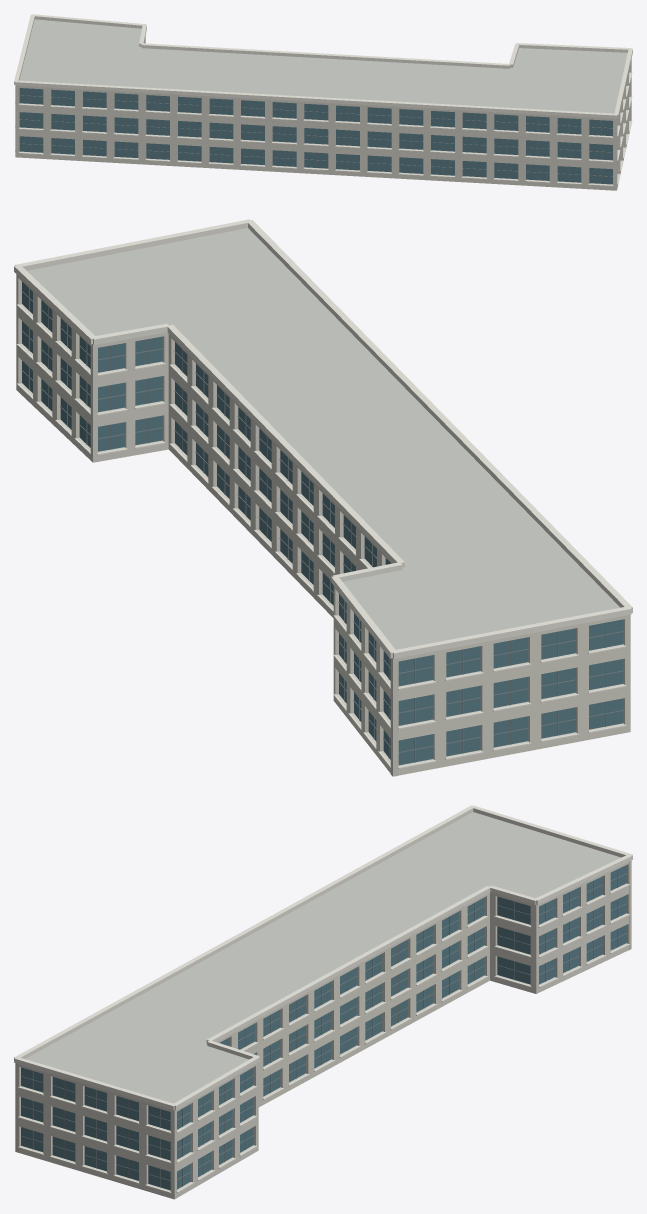
3 views of the same model, one above another, from view 1: azimuth 30°, elevation 25°; view 2: azimuth 150°, elevation 25°; view 3: azimuth 270°, elevation 25° (orthographic). The views are drawn at different scales.
Parts seen in each view (by area): view 1: roof, wall, glass, trim, metal; view 2: roof, wall, glass, trim, metal; view 3: roof, wall, glass, trim, metal.
Boxes of the visible parts, box(x1,y1,x2,y2) form: roof: box(19, 19, 627, 113); wall: box(15, 36, 631, 190); glass: box(19, 88, 612, 184); trim: box(14, 14, 632, 186); metal: box(19, 89, 612, 183); roof: box(27, 228, 619, 649); wall: box(16, 274, 630, 776); glass: box(22, 281, 623, 765); trim: box(14, 219, 632, 768); metal: box(21, 288, 623, 762); roof: box(25, 812, 620, 1103); wall: box(15, 860, 631, 1199); glass: box(21, 865, 626, 1190); trim: box(14, 805, 632, 1193); metal: box(20, 869, 626, 1187).
Size of the model in its own units: 66.92 by 9.74 by 58.19.
